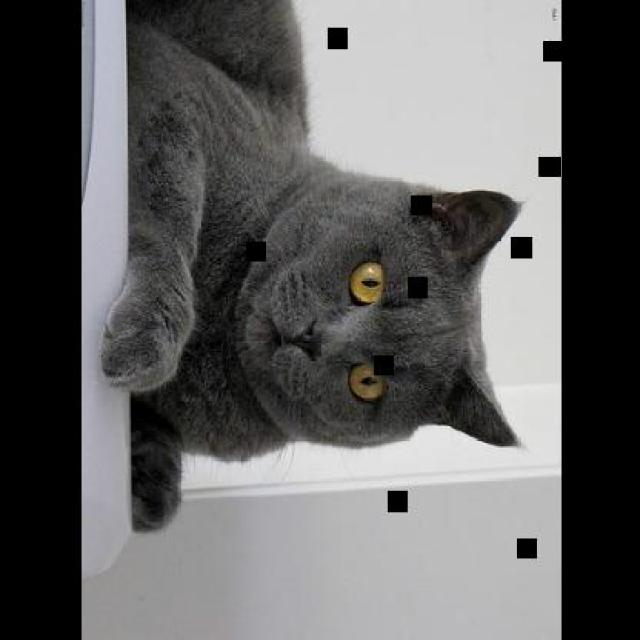unauthorized: (97, 0, 525, 531)
